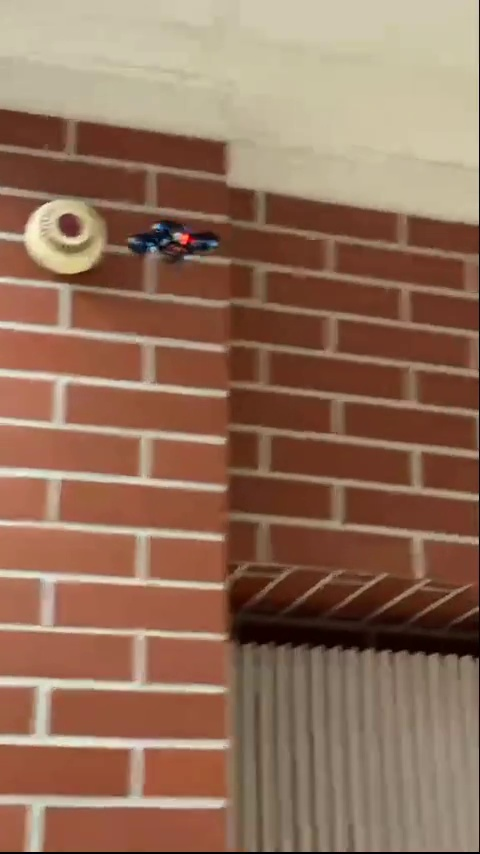drone: (125, 217, 219, 267)
